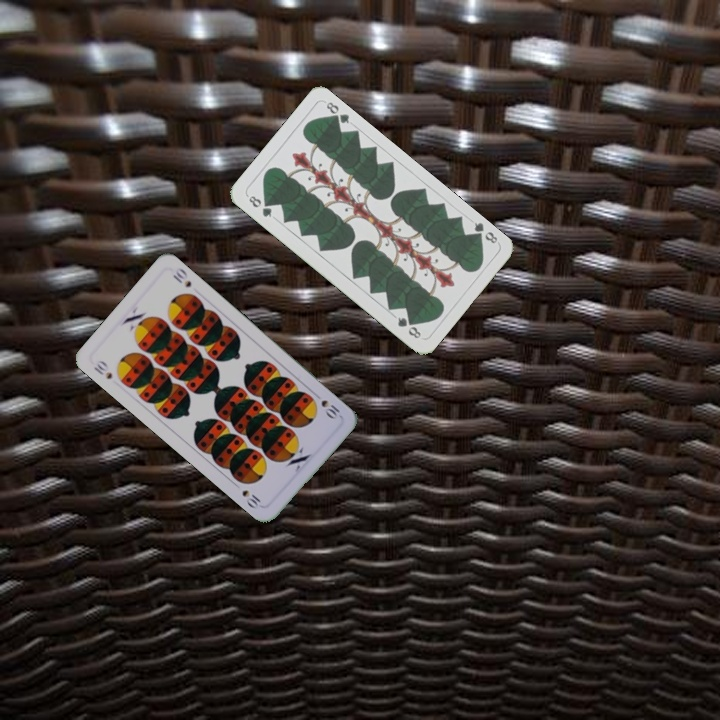G8: (244, 191, 275, 220), (468, 218, 500, 246)
S10: (310, 388, 342, 422), (89, 356, 115, 382)
